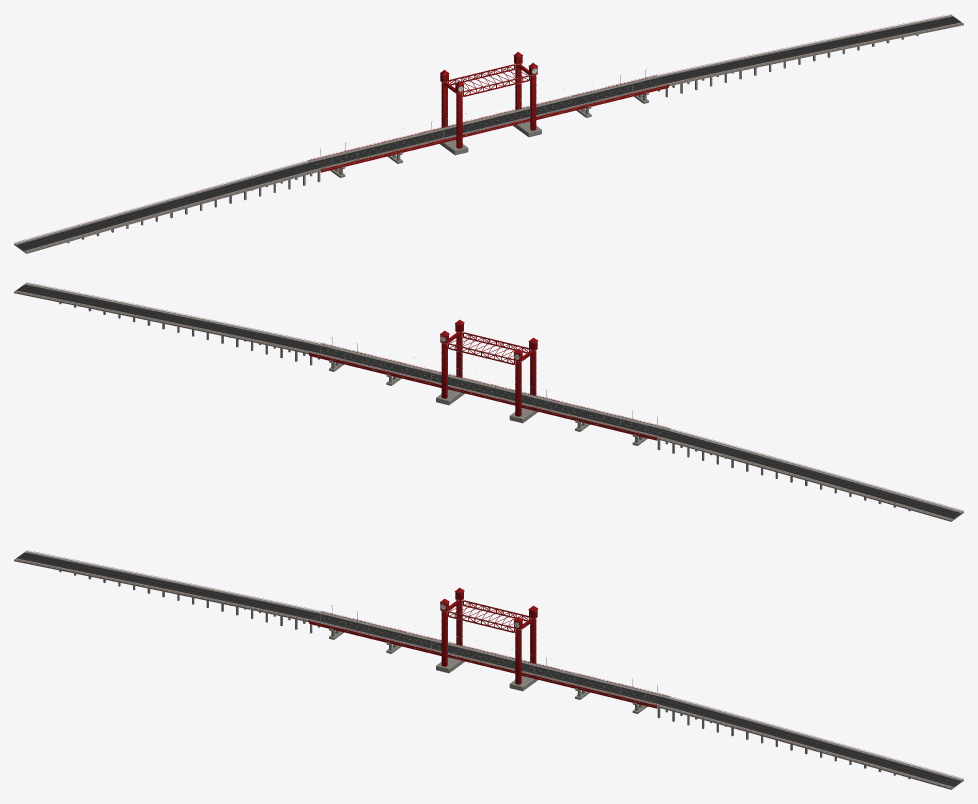
File: ampera.glb
The picture shows the model from 3 angles, top to bottom: view 1: azimuth 30°, elevation 25°; view 2: azimuth 150°, elevation 25°; view 3: azimuth 330°, elevation 25°; orthographic projection.
Parts seen in each view (by area): view 1: ampera_beton, ampera_aspal, ampera_ampera_merah, ampera_angkat, menara-38, menara+38; view 2: ampera_beton, ampera_aspal, ampera_ampera_merah, ampera_angkat, menara-38, menara+38; view 3: ampera_beton, ampera_aspal, ampera_ampera_merah, ampera_angkat, menara+38, menara-38.
Boxes of the visible parts, <box> form: ampera_beton: <box>14,15,963,253</box>; ampera_aspal: <box>16,16,961,250</box>; ampera_ampera_merah: <box>14,14,963,251</box>; ampera_angkat: <box>447,109,530,137</box>; menara-38: <box>440,69,464,148</box>; menara+38: <box>513,51,537,130</box>; ampera_beton: <box>14,283,963,521</box>; ampera_aspal: <box>16,284,961,518</box>; ampera_ampera_merah: <box>14,282,963,519</box>; ampera_angkat: <box>447,377,530,405</box>; menara-38: <box>513,337,537,416</box>; menara+38: <box>440,319,464,398</box>; ampera_beton: <box>14,551,963,789</box>; ampera_aspal: <box>16,552,961,786</box>; ampera_ampera_merah: <box>14,550,963,787</box>; ampera_angkat: <box>447,645,530,673</box>; menara+38: <box>513,605,537,684</box>; menara-38: <box>440,587,464,666</box>.
Bounding box in the file's own units: 954 × 69.7 × 34.
Materials: 9 (5 with a texture image).
